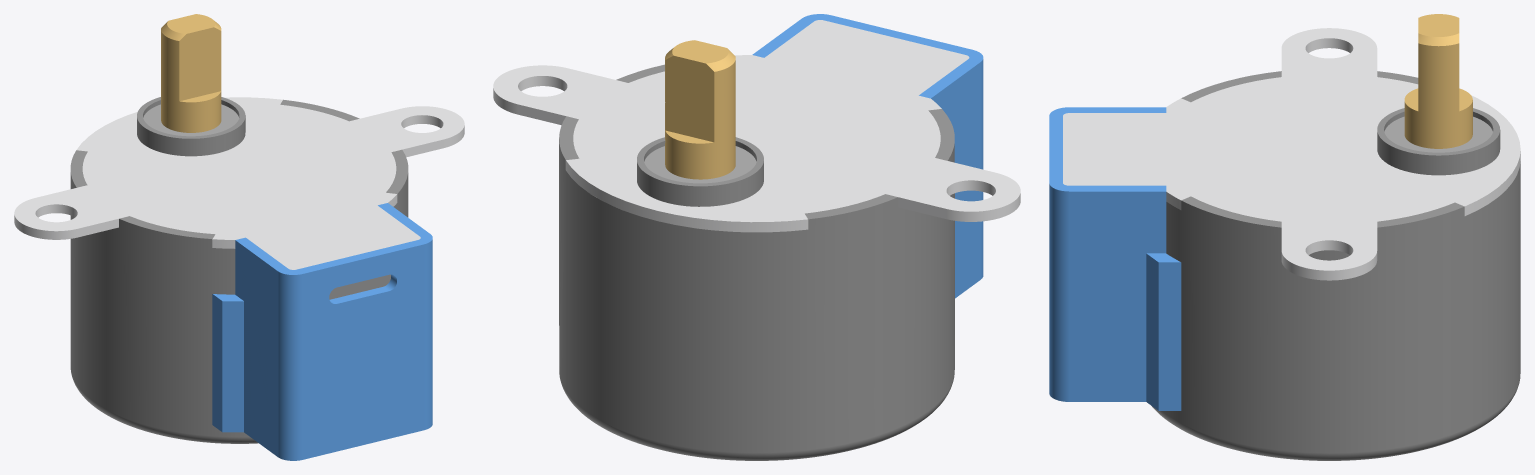
The model's file is adafruit_858_stepper_motor_5vdc.glb.
3 renders of one model, left to right at view 1: azimuth 30°, elevation 25°; view 2: azimuth 150°, elevation 25°; view 3: azimuth 270°, elevation 25°, orthographic. The views are drawn at different scales.
Visible parts, largest first — view 1: body, shaft; view 2: body, shaft; view 3: body, shaft.
Part boxes in pixels (x1=…): body: x1=14, y1=97, x2=464, y2=460; shaft: x1=161, y1=14, x2=221, y2=132; body: x1=493, y1=14, x2=1020, y2=460; shaft: x1=665, y1=40, x2=735, y2=179; body: x1=1049, y1=28, x2=1520, y2=460; shaft: x1=1404, y1=14, x2=1472, y2=148.
Bounding box in the file's own units: 0.042 × 0.029 × 0.0345.
